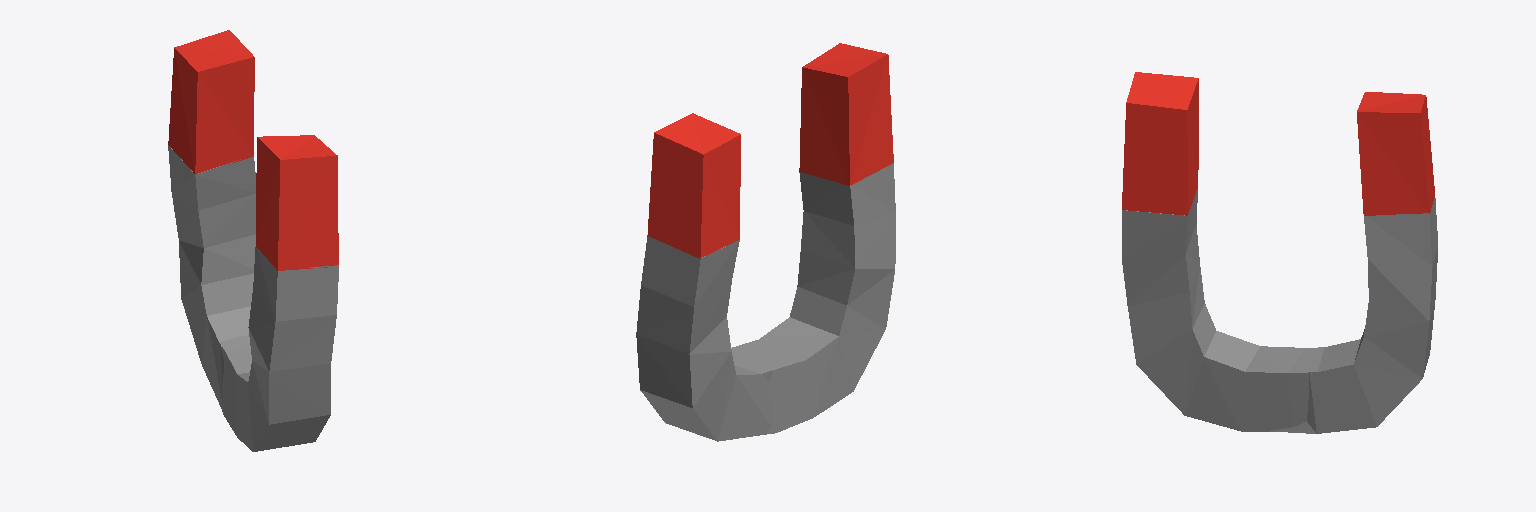
The picture shows the model from 3 angles: view 1: azimuth 30°, elevation 25°; view 2: azimuth 150°, elevation 25°; view 3: azimuth 270°, elevation 25°; orthographic projection.
Parts seen in each view (by area): view 1: group[number redacted]; view 2: group[number redacted]; view 3: group[number redacted].
Boxes of the visible parts, <box> form: group[number redacted]: <box>168,30,338,451</box>; group[number redacted]: <box>636,43,895,441</box>; group[number redacted]: <box>1122,72,1437,433</box>.
Size of the model in its own units: 0.404 by 1.11 by 0.9719.